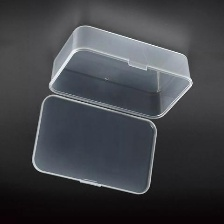plastic_box: (26, 20, 197, 200)
